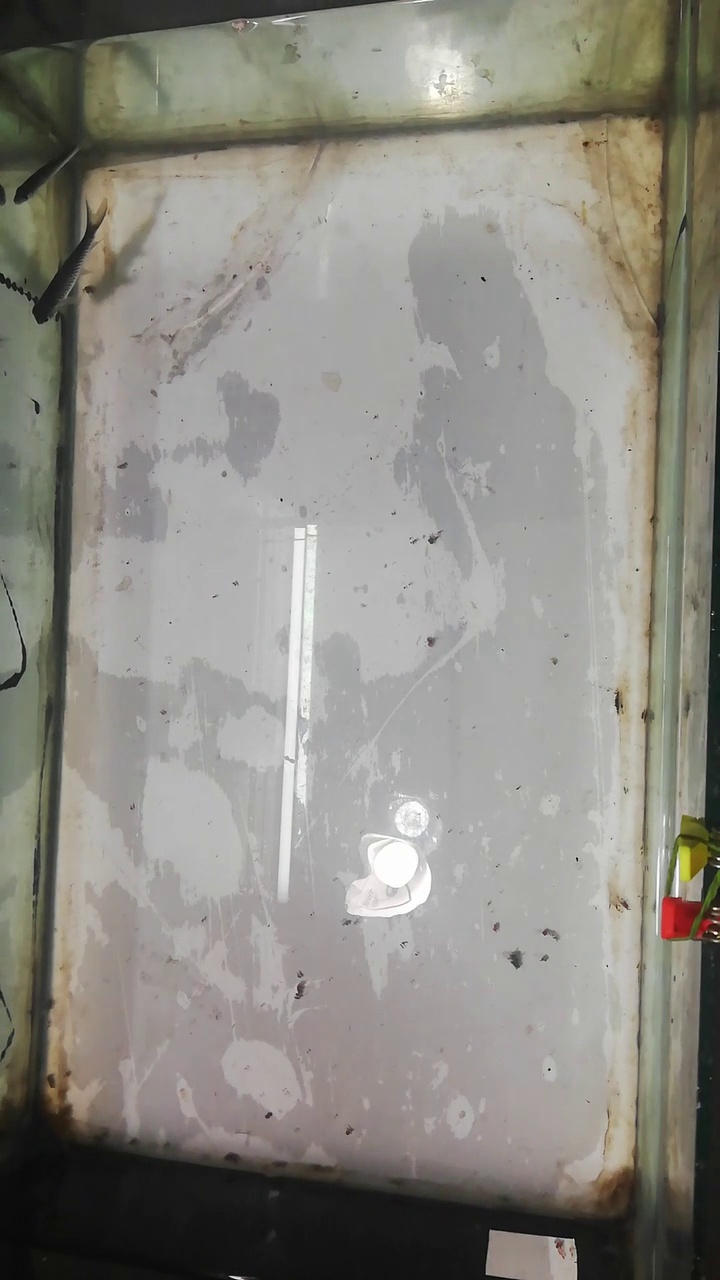fish1: (32, 217, 103, 328)
fish2: (14, 140, 89, 203)
